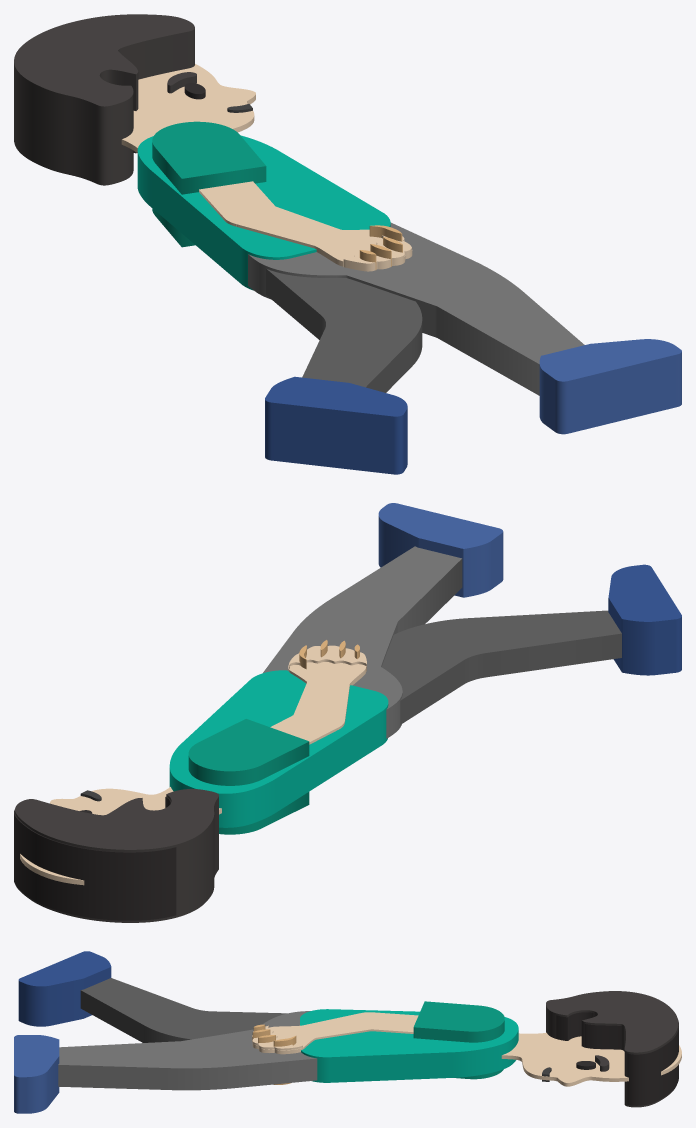
File: emoji_u1f6b6_1f3fb_200d_2642_200d_27a1.glb
3 renders of one model, top to bottom at view 1: azimuth 30°, elevation 25°; view 2: azimuth 150°, elevation 25°; view 3: azimuth 270°, elevation 25°, orthographic. The views are drawn at different scales.
Parts seen in each view (by area): view 1: emoji_u1f6b6_1f3fb_200d_2642_200d_27a1; view 2: emoji_u1f6b6_1f3fb_200d_2642_200d_27a1; view 3: emoji_u1f6b6_1f3fb_200d_2642_200d_27a1.
Part boxes in pixels (<box>): emoji_u1f6b6_1f3fb_200d_2642_200d_27a1: <box>14,14,681,474</box>; emoji_u1f6b6_1f3fb_200d_2642_200d_27a1: <box>14,503,681,922</box>; emoji_u1f6b6_1f3fb_200d_2642_200d_27a1: <box>14,951,681,1113</box>.
Size of the model in its own units: 0.0145 by 0.003 by 0.0331.
